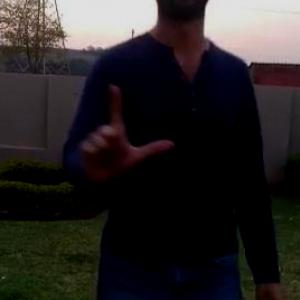land_hand: (73, 80, 172, 184)
